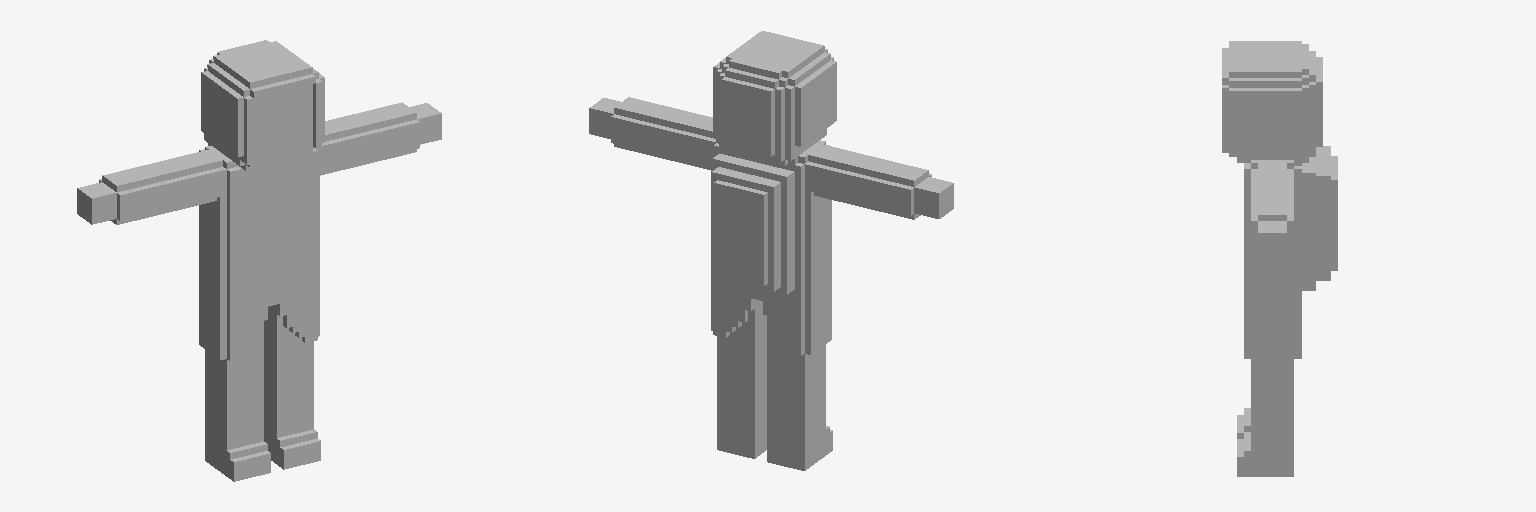
The model's file is StalVox Bandit Nov-1.obj.
The picture shows the model from 3 angles: view 1: azimuth 30°, elevation 25°; view 2: azimuth 150°, elevation 25°; view 3: azimuth 270°, elevation 25°; orthographic projection.
Visible parts, largest first — view 1: StalVox Bandit Nov-1; view 2: StalVox Bandit Nov-1; view 3: StalVox Bandit Nov-1.
Part boxes in pixels (bbox=[...]): StalVox Bandit Nov-1: bbox=[77, 40, 441, 481]; StalVox Bandit Nov-1: bbox=[589, 31, 953, 470]; StalVox Bandit Nov-1: bbox=[1222, 41, 1337, 476].
Bounding box in the file's own units: 56 × 61 × 16.